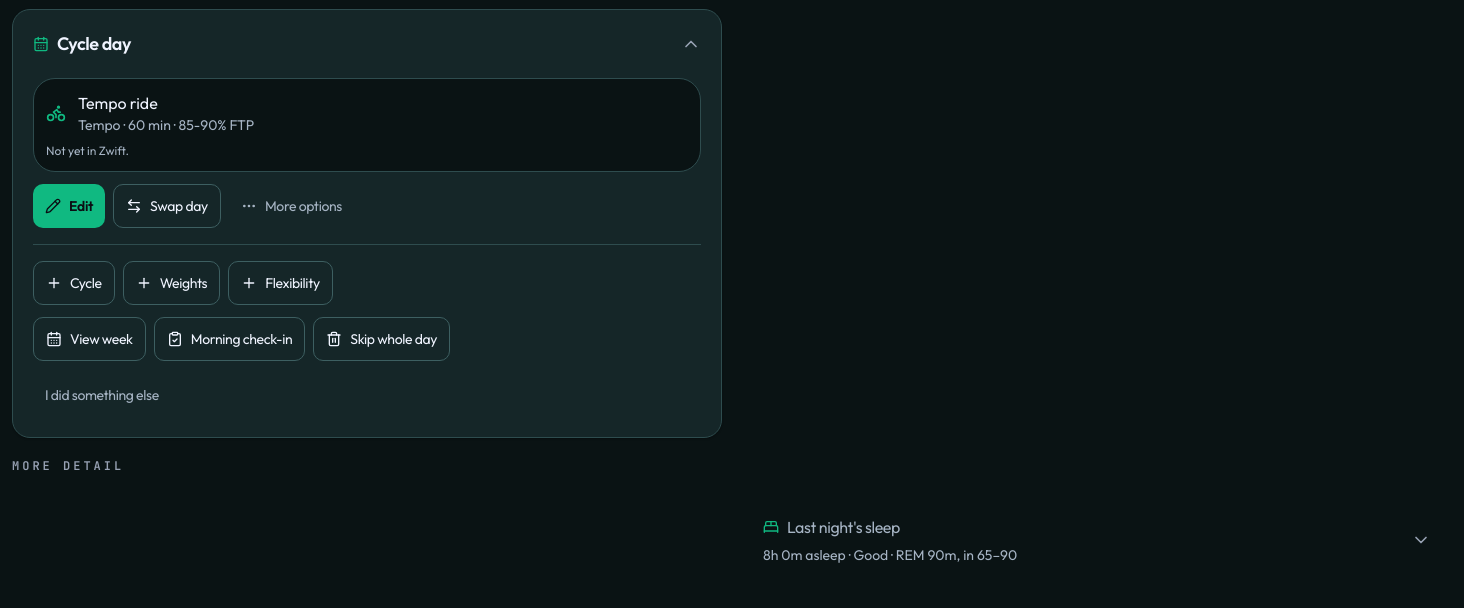
Scenario: DashboardPage › reveals a collapsed section body only when it is expanded (lazy)
(page scrolled)
Check: the text "Cycle day" is shown, box [33,32,131,55]
Check: the text "23 above" is not shown
Note: Tap the collapsed Last-night header → its body mounts.
What coordinates should you click on to do the following:
click the button "Last night's sleep 8h 0m asleep · Good · REM 90m, in 65–90"
I would click on:
 (843, 527)
Its box is [743,495,1451,585].
(page scrolled)
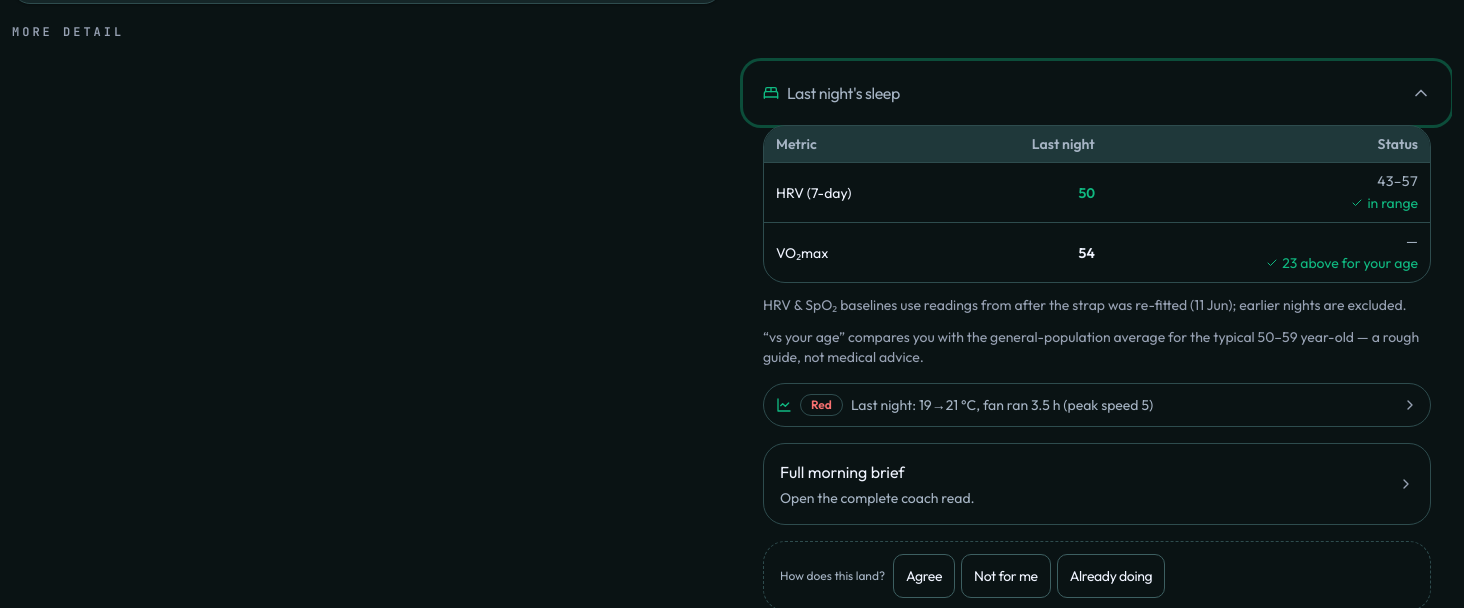
Check: the column heading "Status" is shown, box [1107,126,1430,162]
Check: the text "in range" is shown, box [1351,193,1418,213]
Check: the text "23 above for your age" is shown, box [1266,253,1418,273]
